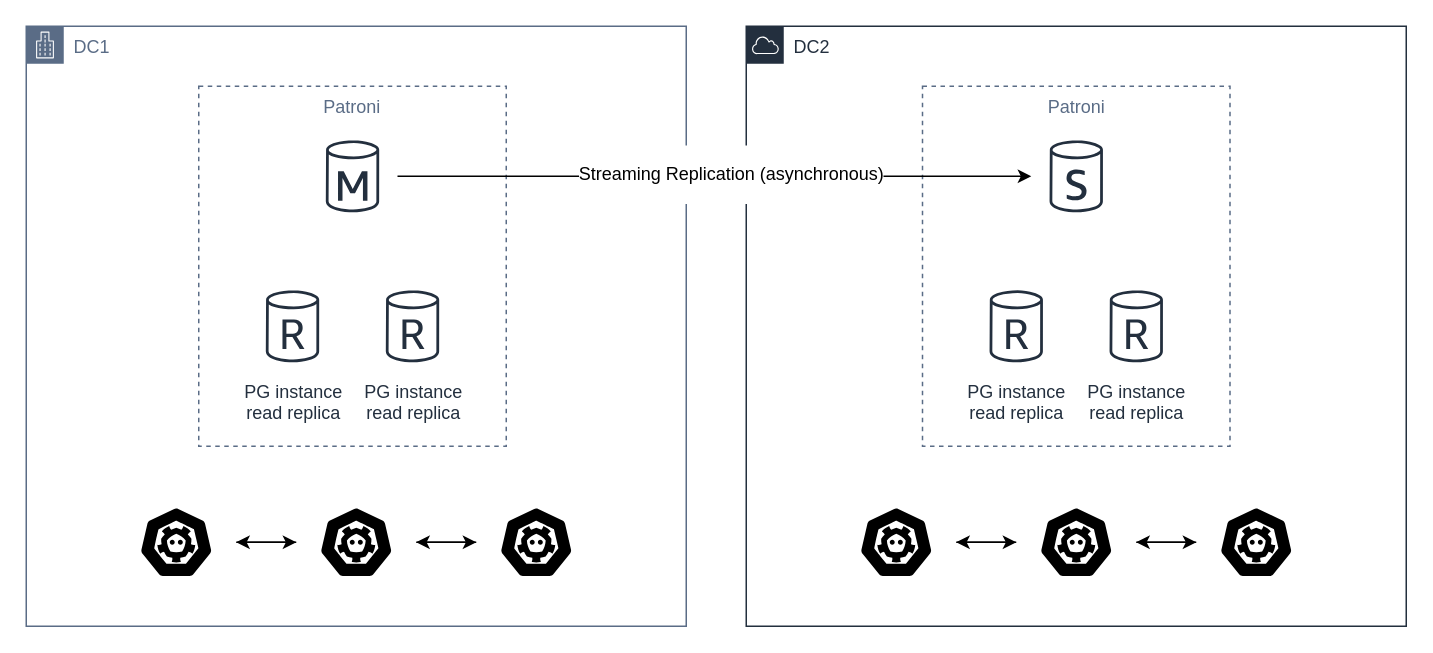
Some shapes in this 1433 by 653 pixel diagram are drawn without their labels. Here are the shapes that lost their labels. From the top down, the box of each, then its label:
(306, 130, 398, 221): PG instance
(1030, 130, 1121, 221): PG instance standby
